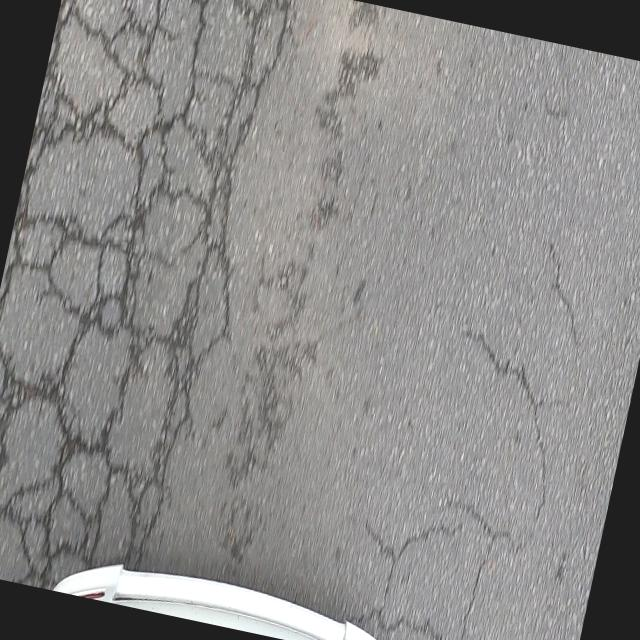Retak-Buaya: (0, 0, 294, 587)
